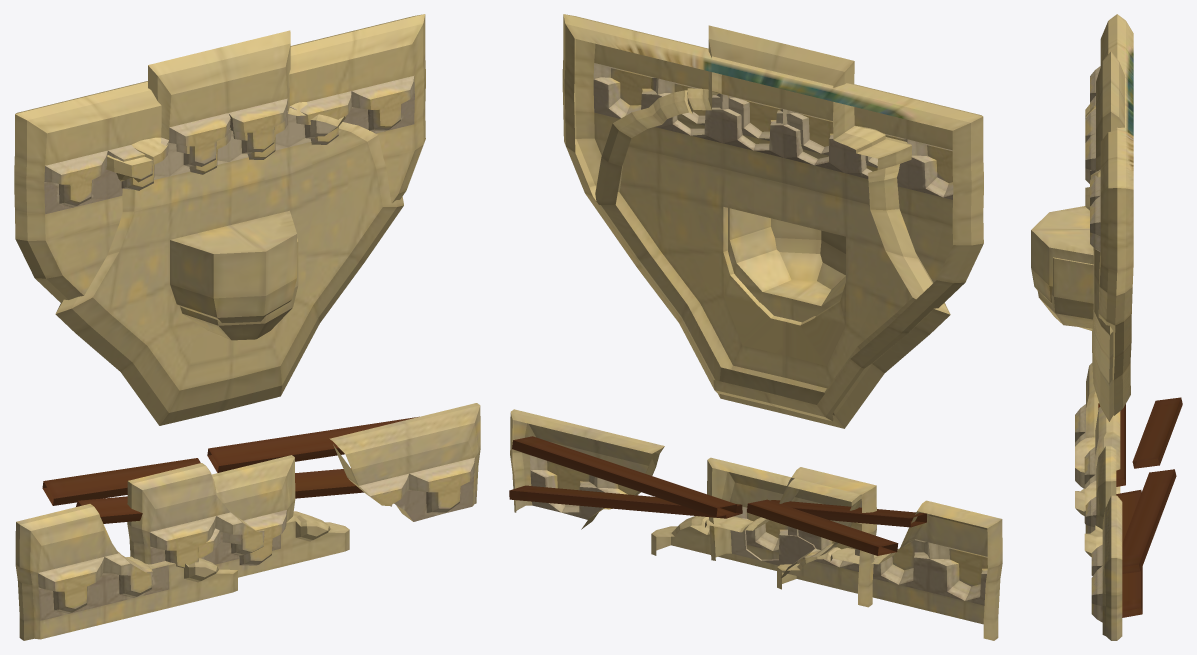
The model's file is PlataformasTeste.fbx.
3 renders of one model, left to right at view 1: azimuth 30°, elevation 25°; view 2: azimuth 150°, elevation 25°; view 3: azimuth 270°, elevation 25°, orthographic. The views are drawn at different scales.
Visible parts, largest first — view 1: Plataforma_Centro2, Plataforma_Centro3, Plataforma_Madeira2, PlataformaL, PlataformaR; view 2: Plataforma_Centro3, Plataforma_Centro2, Plataforma_Madeira2, PlataformaL, PlataformaR; view 3: Plataforma_Centro3, Plataforma_Madeira2, Plataforma_Centro2, PlataformaL, PlataformaR.
Part boxes in pixels (left/top/right/bottom): Plataforma_Centro2: left=55, top=30, right=403, bottom=425; Plataforma_Centro3: left=14, top=14, right=425, bottom=340; Plataforma_Madeira2: left=15, top=403, right=480, bottom=640; PlataformaL: left=127, top=463, right=349, bottom=577; PlataformaR: left=198, top=455, right=295, bottom=565; Plataforma_Centro3: left=562, top=14, right=983, bottom=421; Plataforma_Centro2: left=595, top=25, right=950, bottom=428; Plataforma_Madeira2: left=509, top=409, right=1002, bottom=640; PlataformaL: left=651, top=467, right=876, bottom=607; PlataformaR: left=707, top=457, right=861, bottom=578; Plataforma_Centro3: left=1037, top=14, right=1133, bottom=415; Plataforma_Madeira2: left=1075, top=363, right=1182, bottom=640; Plataforma_Centro2: left=1031, top=52, right=1124, bottom=421; PlataformaL: left=1084, top=407, right=1120, bottom=556; PlataformaR: left=1085, top=446, right=1116, bottom=533.
Size of the model in its own units: 140 by 153 by 45.19.
Materials: 1 (1 with a texture image).
